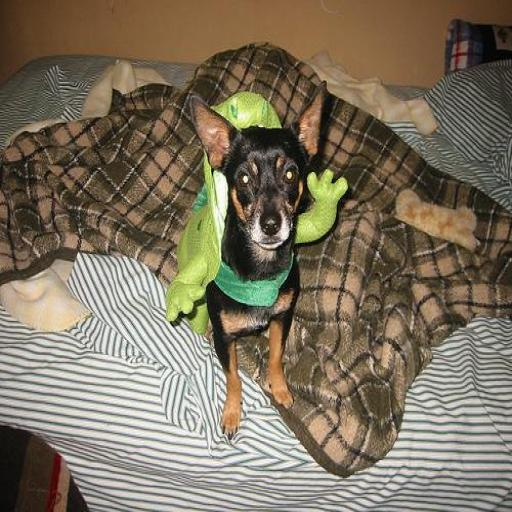dog_face: (184, 84, 333, 248)
